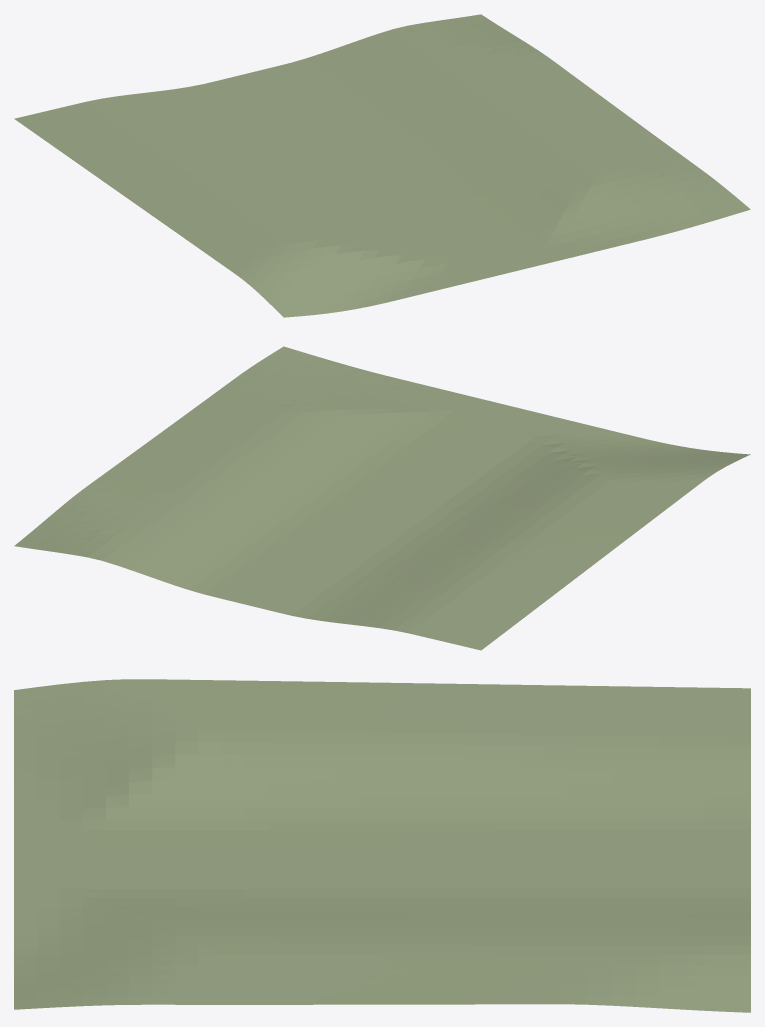
Rendered from gardens-5-4.glb.
3 views of the same model, one above another, from view 1: azimuth 30°, elevation 25°; view 2: azimuth 150°, elevation 25°; view 3: azimuth 270°, elevation 25° (orthographic). The views are drawn at different scales.
Visible parts, largest first — view 1: gardens-5-4; view 2: gardens-5-4; view 3: gardens-5-4.
Boxes of the visible parts, box(x1,y1,x2,y2) form: gardens-5-4: box(14, 14, 750, 317); gardens-5-4: box(14, 346, 750, 650); gardens-5-4: box(14, 679, 750, 1012).
Size of the model in its own units: 256 by 9.58 by 256.
